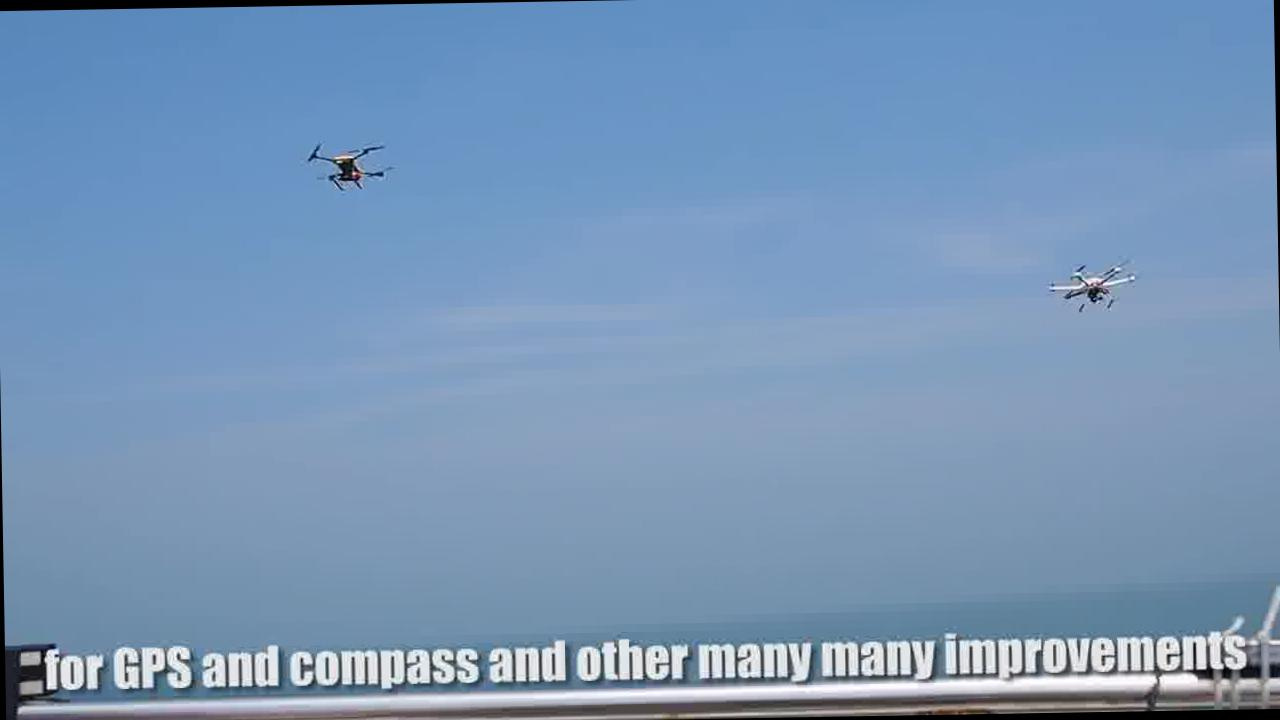drone: (298, 131, 393, 193), (1048, 253, 1139, 313)
